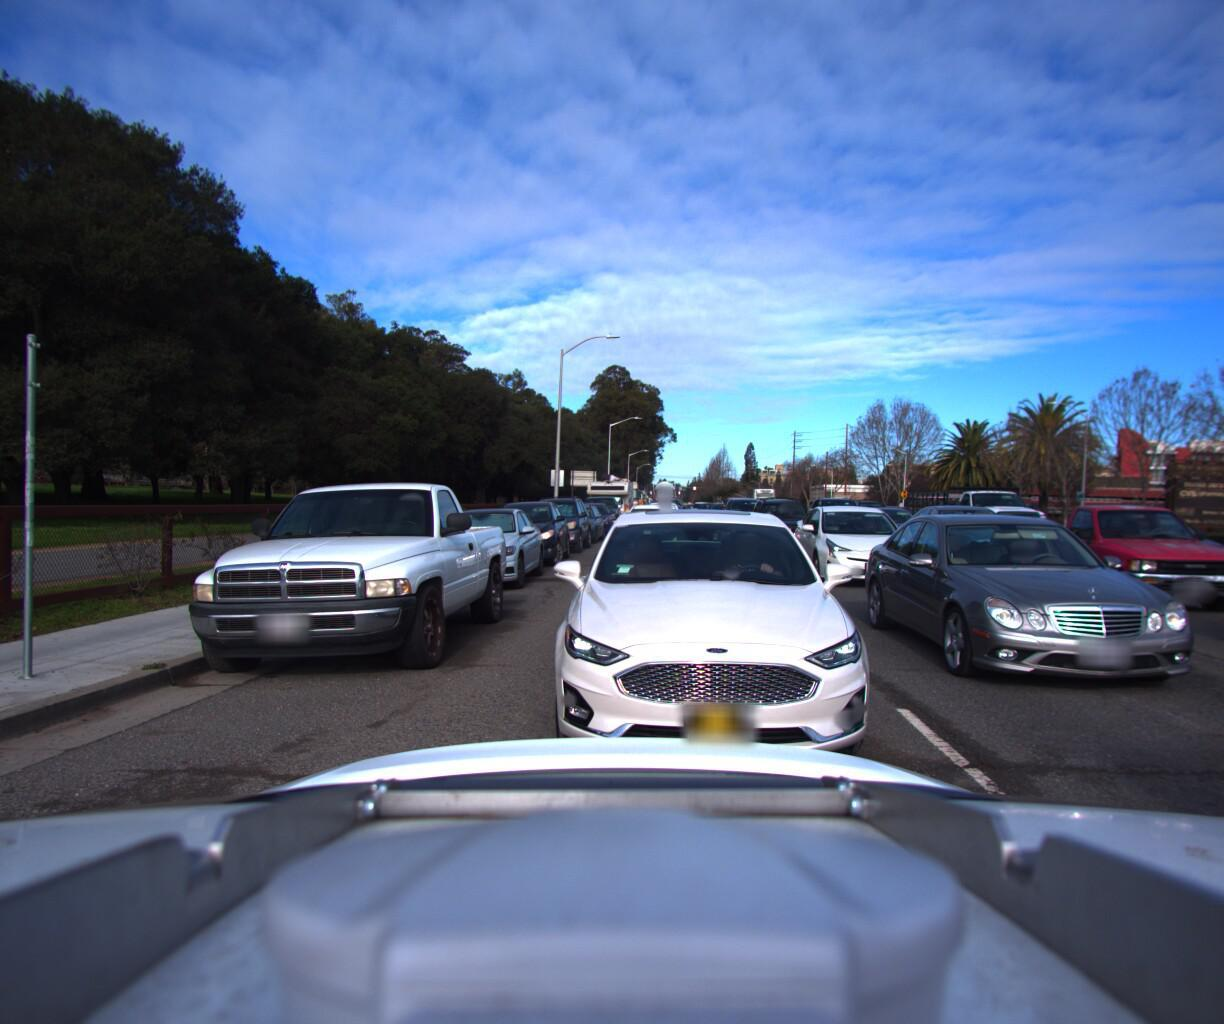car: (525, 502, 917, 827), (152, 464, 530, 692), (853, 506, 1224, 703), (1004, 494, 1224, 624), (781, 499, 924, 590), (422, 499, 552, 590), (1075, 507, 1224, 584), (895, 501, 1039, 575), (480, 494, 574, 567), (606, 501, 694, 571), (522, 493, 593, 552), (742, 497, 817, 552), (717, 500, 778, 541), (554, 500, 606, 540), (568, 495, 617, 534), (656, 497, 698, 537), (577, 492, 623, 528), (703, 501, 738, 528)
other_vehicle: (580, 476, 636, 527), (601, 478, 644, 518), (614, 484, 647, 514)
truck: (897, 473, 1072, 568), (644, 476, 681, 515)
